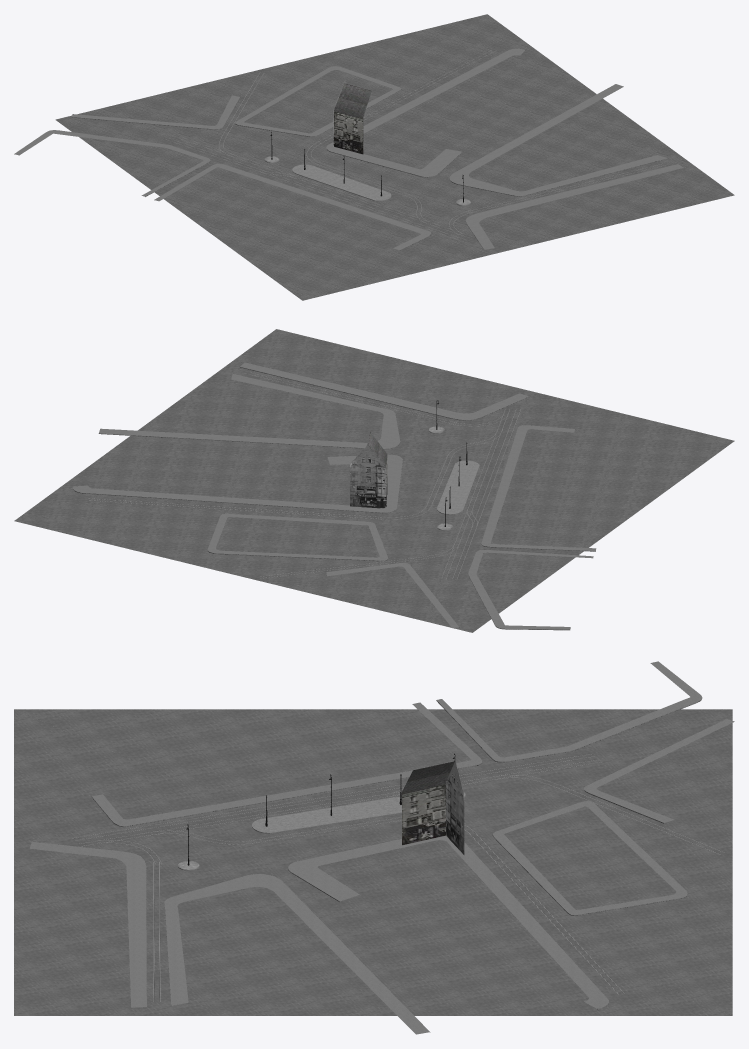
Rendered from AM_OLD_FLOOR_A.FBX.
3 renders of one model, top to bottom at view 1: azimuth 30°, elevation 25°; view 2: azimuth 150°, elevation 25°; view 3: azimuth 270°, elevation 25°, orthographic. The views are drawn at different scales.
Parts seen in each view (by area): view 1: AM_OLD_FLOOR, pavement001, Old_AM_H001, Street_insel, Plane058, Plane054; view 2: AM_OLD_FLOOR, pavement001, Old_AM_H, Street_insel, Plane056; view 3: AM_OLD_FLOOR, pavement001, Old_AM_H001, Street_insel, Old_AM_H, Plane058, Plane054.
Boxes of the visible parts, x1=… form: AM_OLD_FLOOR: x1=55, y1=14, x2=734, y2=300; pavement001: x1=14, y1=48, x2=683, y2=250; Old_AM_H001: x1=334, y1=83, x2=371, y2=154; Street_insel: x1=292, y1=164, x2=391, y2=201; Plane058: x1=166, y1=138, x2=466, y2=241; Plane054: x1=172, y1=134, x2=471, y2=237; AM_OLD_FLOOR: x1=14, y1=329, x2=734, y2=632; pavement001: x1=72, y1=362, x2=596, y2=630; Old_AM_H: x1=350, y1=443, x2=386, y2=508; Street_insel: x1=437, y1=460, x2=479, y2=514; Plane056: x1=87, y1=498, x2=383, y2=519; AM_OLD_FLOOR: x1=14, y1=709, x2=732, y2=1015; pavement001: x1=30, y1=661, x2=734, y2=1034; Old_AM_H001: x1=402, y1=761, x2=454, y2=845; Street_insel: x1=252, y1=797, x2=401, y2=833; Old_AM_H: x1=446, y1=757, x2=464, y2=854; Plane058: x1=72, y1=753, x2=594, y2=840; Plane054: x1=79, y1=759, x2=601, y2=846.
Size of the model in its own units: 19342 by 2164 by 15790.
9 materials, 7 textured.
